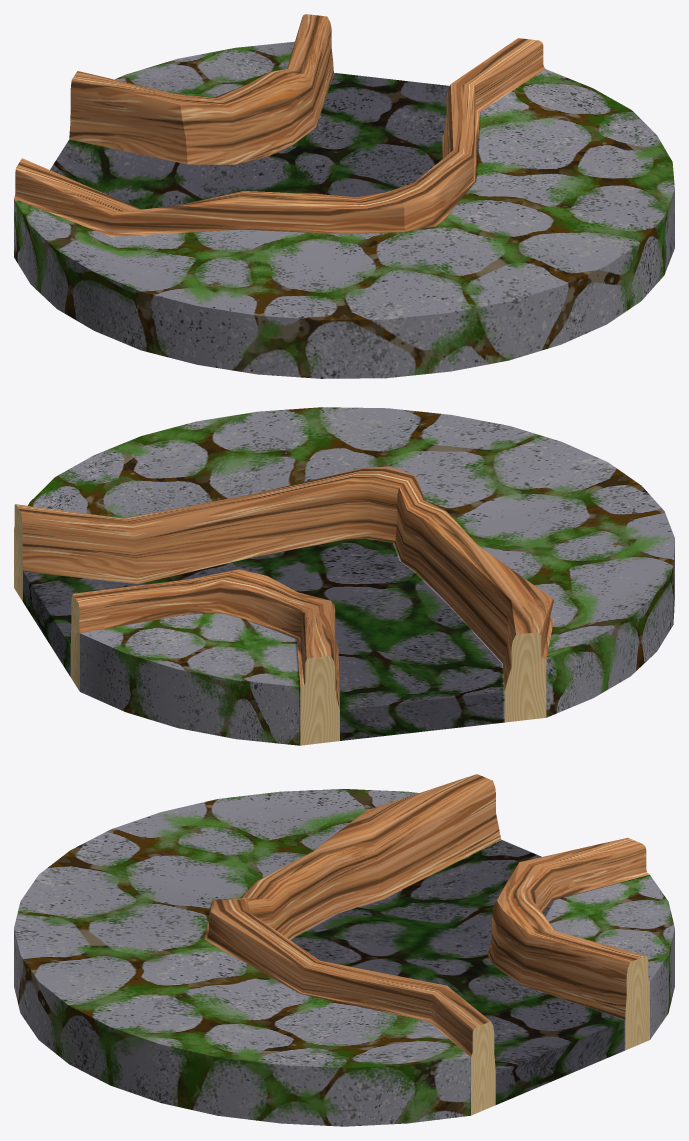
Rendered from LShapeCircle.fbx.
The picture shows the model from 3 angles, top to bottom: view 1: azimuth 30°, elevation 25°; view 2: azimuth 150°, elevation 25°; view 3: azimuth 270°, elevation 25°; orthographic projection.
Parts seen in each view (by area): view 1: L_Shape_1; view 2: L_Shape_1; view 3: L_Shape_1.
Part boxes in pixels (x1,y1,x2,y2): L_Shape_1: (14,14,674,378); L_Shape_1: (14,407,674,745); L_Shape_1: (14,774,674,1126).
Bounding box in the file's own units: 216 × 32.37 × 216.
